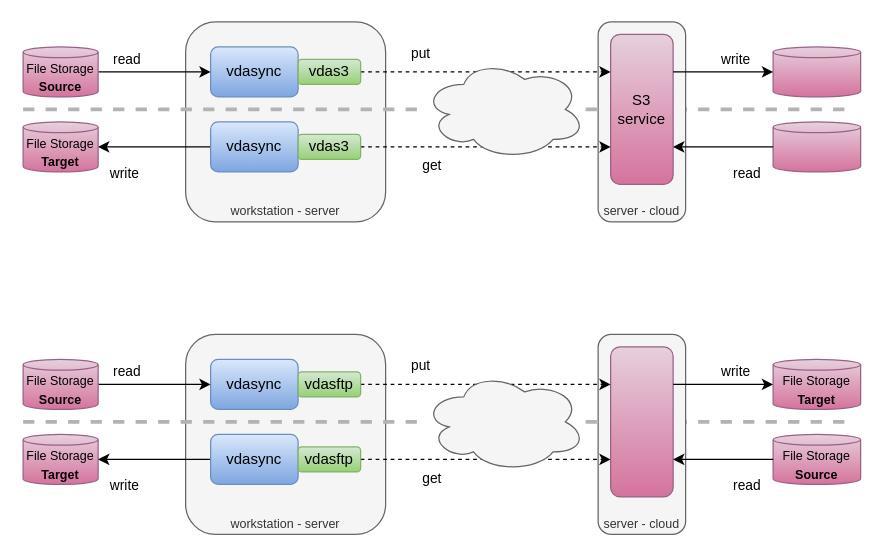
This 883x556 diagram has some shape labels left out. Each missing label, with the centre of its shape:
Network REST - HTTPS: the point at 504,108
Network SFTP - SSH: the point at 504,421
Object Storage Source: the point at 816,146
Object Storage Target: the point at 816,71
SFTP Server: the point at 641,421
